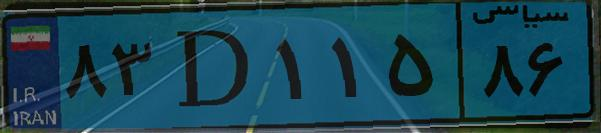1: (270, 28, 330, 110), (330, 28, 385, 110)
3: (110, 28, 158, 98)
5: (385, 28, 445, 110)
6: (525, 38, 570, 115)
8: (57, 26, 110, 100), (475, 38, 525, 113)
D: (158, 12, 270, 120)
